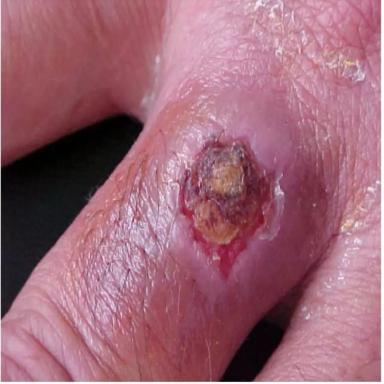Leishmanios: (181, 138, 285, 288)
